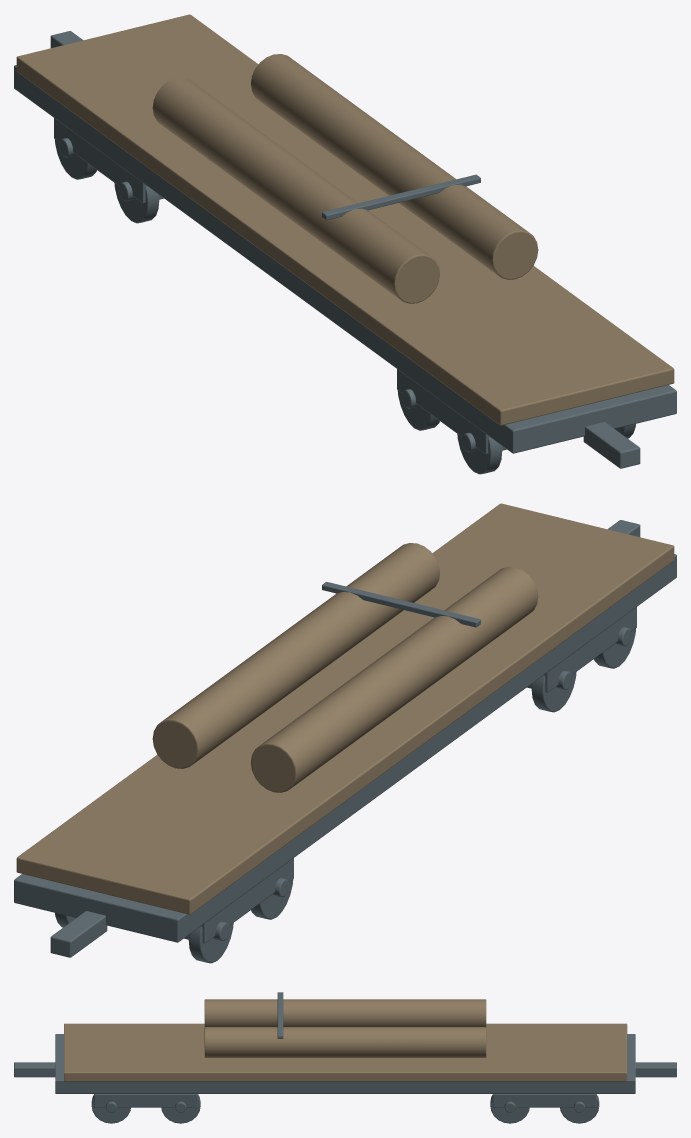
File: rail_flatcar.glb
The picture shows the model from 3 angles, top to bottom: view 1: azimuth 30°, elevation 25°; view 2: azimuth 150°, elevation 25°; view 3: azimuth 270°, elevation 25°; orthographic projection. The views are drawn at different scales.
Parts seen in each view (by area): view 1: rail_flatcar; view 2: rail_flatcar; view 3: rail_flatcar.
Part boxes in pixels (x1,y1,x2,y2): rail_flatcar: [14, 14, 676, 474]; rail_flatcar: [14, 503, 676, 963]; rail_flatcar: [14, 992, 676, 1123].
Size of the model in its own units: 2.7 by 2.27 by 15.3.
